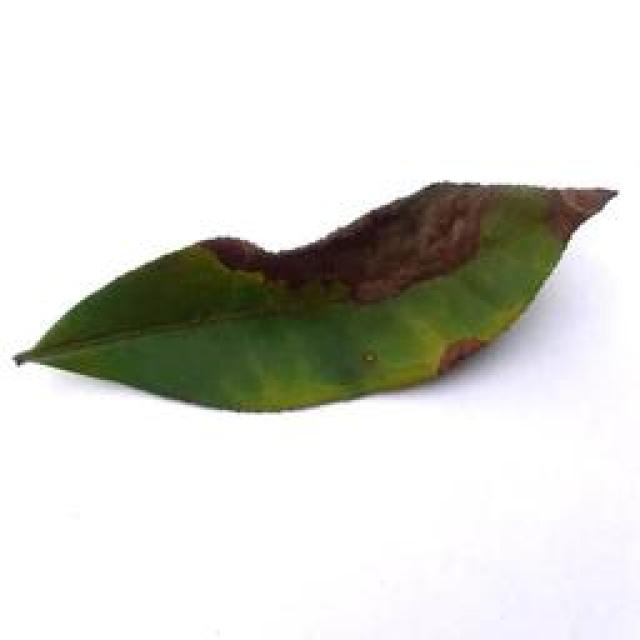Brown Blight: (15, 155, 640, 425)
